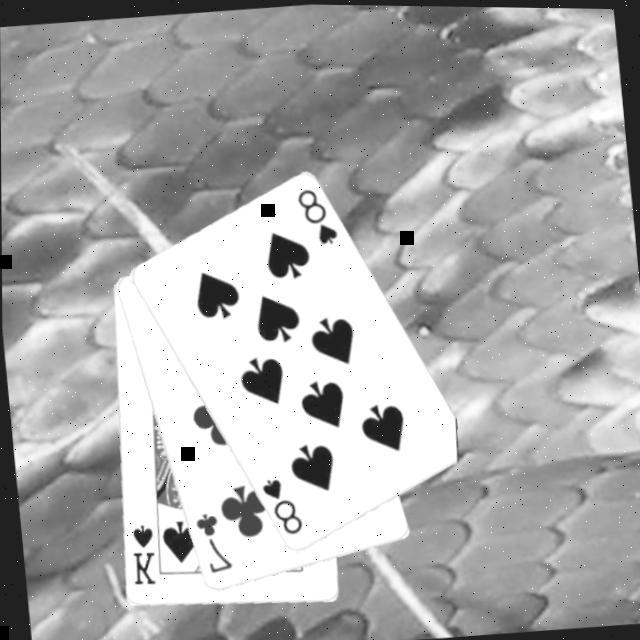7C: (191, 506, 237, 578)
8S: (258, 470, 307, 540), (294, 180, 342, 248)
KS: (126, 518, 160, 588)
